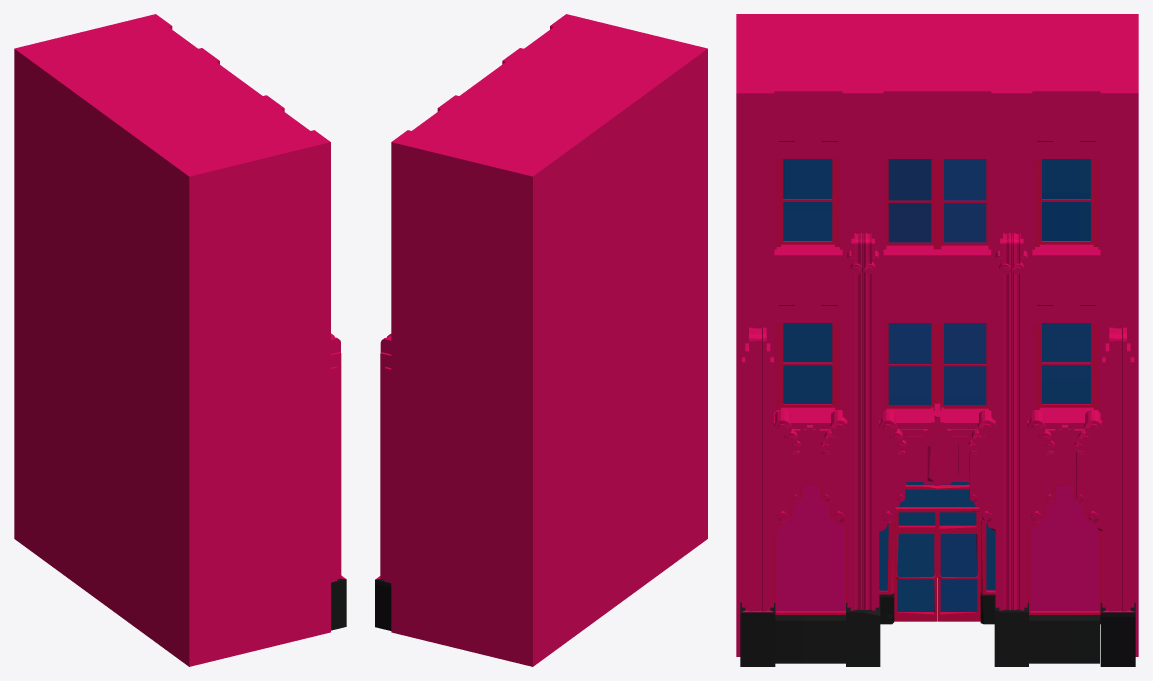
Rendered from Building_Deco01.fbx.
3 renders of one model, left to right at view 1: azimuth 30°, elevation 25°; view 2: azimuth 150°, elevation 25°; view 3: azimuth 270°, elevation 25°, orthographic. The views are drawn at different scales.
Visible parts, largest first — view 1: SM_City_Building_Deco_01a.mo; view 2: SM_City_Building_Deco_01a.mo; view 3: SM_City_Building_Deco_01a.mo.
Boxes of the visible parts, box(x1,y1,x2,y2) form: SM_City_Building_Deco_01a.mo: box(14, 14, 346, 666); SM_City_Building_Deco_01a.mo: box(375, 14, 707, 666); SM_City_Building_Deco_01a.mo: box(736, 14, 1138, 666).
Bounding box in the file's own units: 462 × 1360 × 880.
